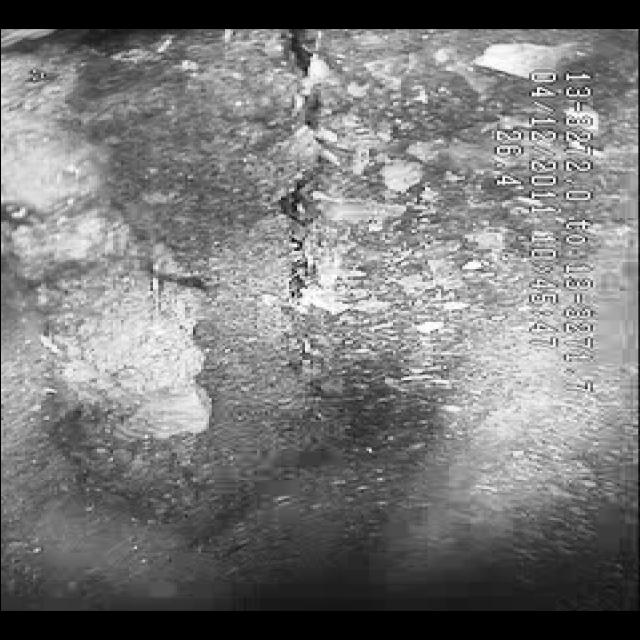Crack: (200, 47, 407, 406)
